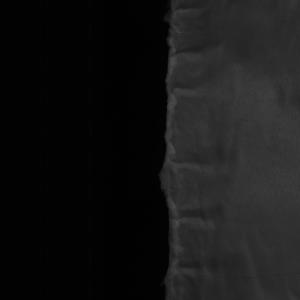Damage: (155, 1, 189, 300)
